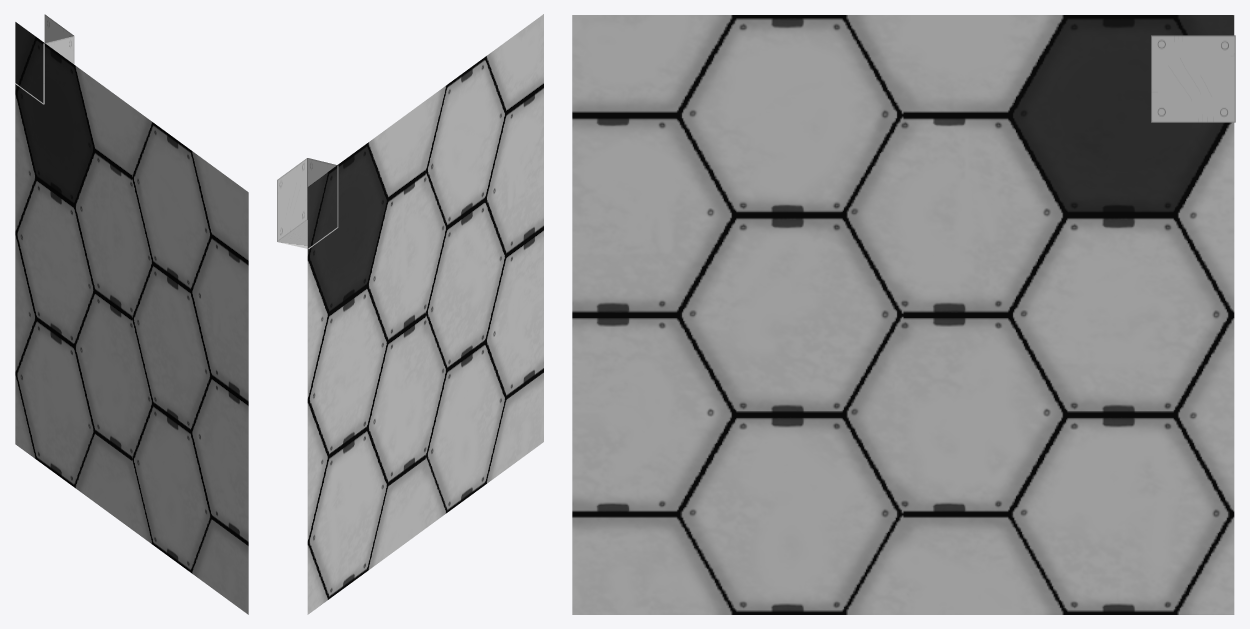
The model's file is Wall_CornerTopRight.fbx.
3 renders of one model, left to right at view 1: azimuth 30°, elevation 25°; view 2: azimuth 150°, elevation 25°; view 3: azimuth 270°, elevation 25°, orthographic. The views are drawn at different scales.
Visible parts, largest first — view 1: pPlane127; view 2: pPlane127; view 3: pPlane127.
Boxes of the visible parts, x1,y1,x2,y2 form: pPlane127: [15, 14, 248, 614]; pPlane127: [277, 14, 543, 614]; pPlane127: [572, 15, 1235, 614].
Bounding box in the file's own units: 0.1534 × 2 × 2.
